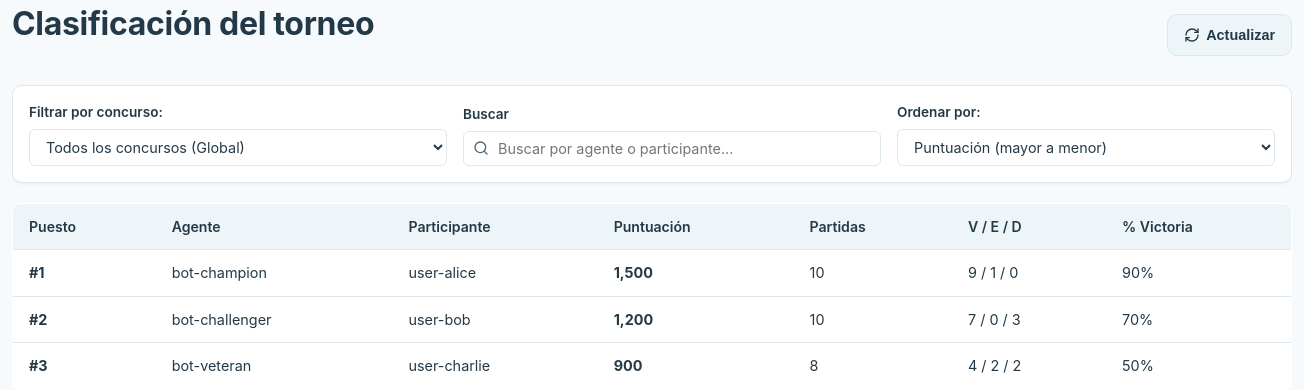
Test case: Sprint FQ-5: Tournament Experience & Real-Time Rankings › RankingsPage Real-Time Leaderboard & Filters › filters rankings by search input
Expected: the text "bot-champion" is shown, [156,249,392,296]
Expected: the text "bot-challenger" is shown, [156,296,392,343]
Type "bob" into the search field with placeholder "Buscar por agente o participante...". click: (672, 148)
box: [463,131,881,166]
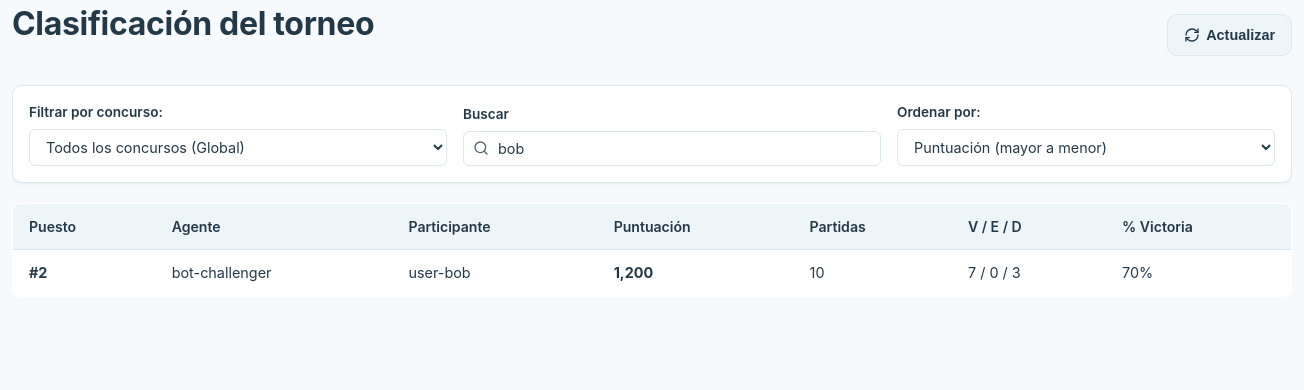
Expected: the text "bot-challenger" is shown, [156,249,392,296]
Expected: the text "bot-champion" is gone
